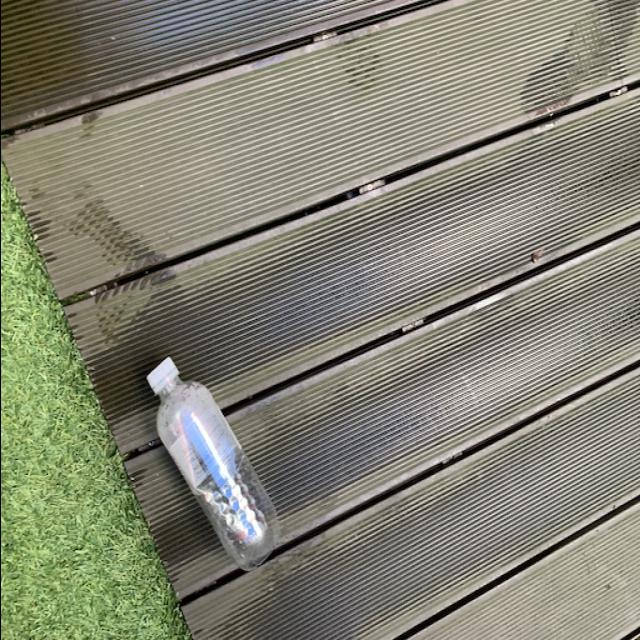litter: (141, 356, 281, 572)
